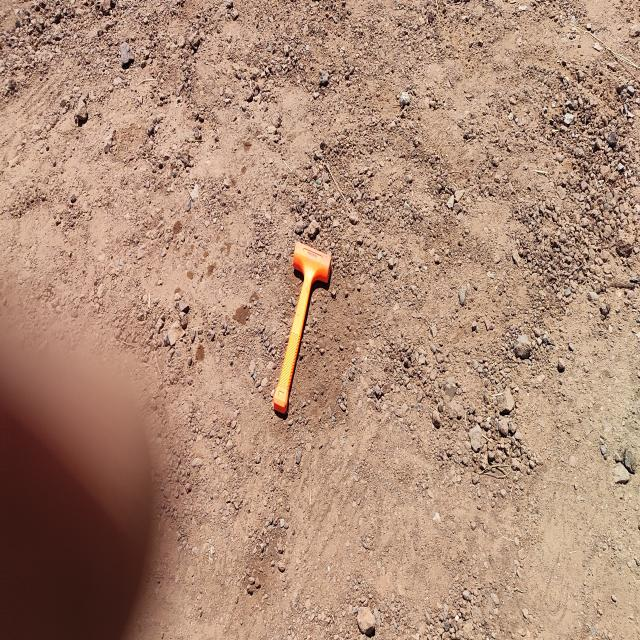Orange_hammer: (272, 240, 332, 417)
